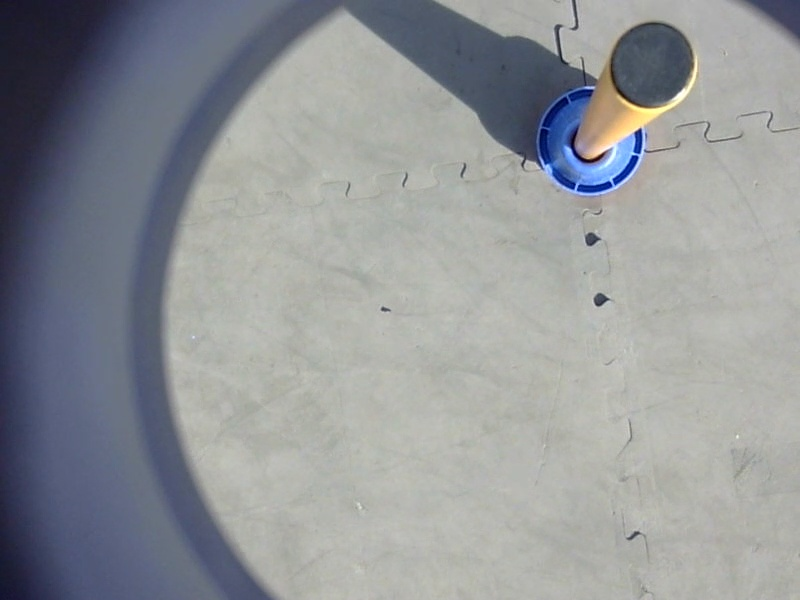tip: (598, 14, 703, 116)
